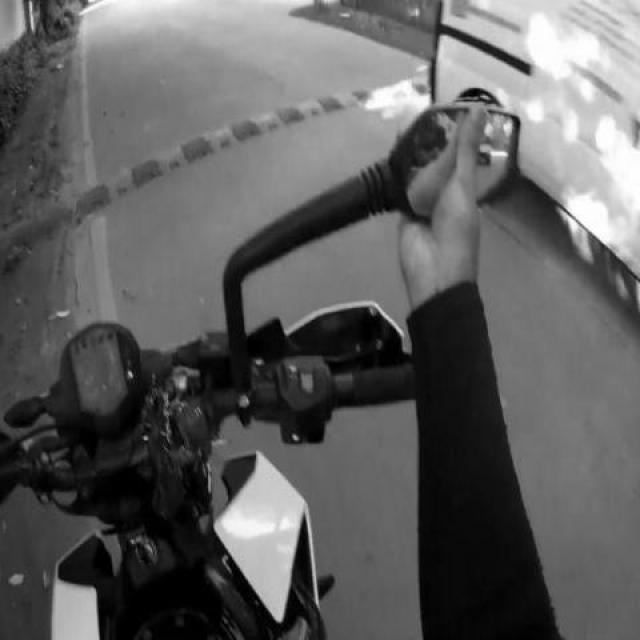Speed Bump: (79, 74, 268, 224), (268, 78, 407, 128)
